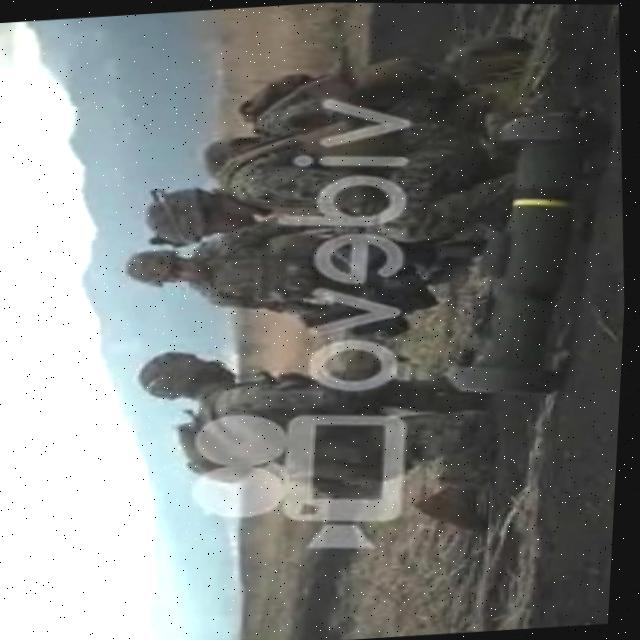rocket: (425, 100, 632, 403)
